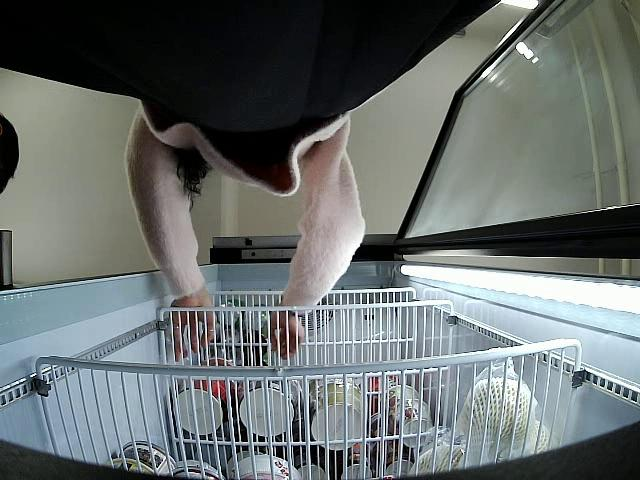00_hand: (169, 290, 216, 361), (270, 305, 305, 360)
